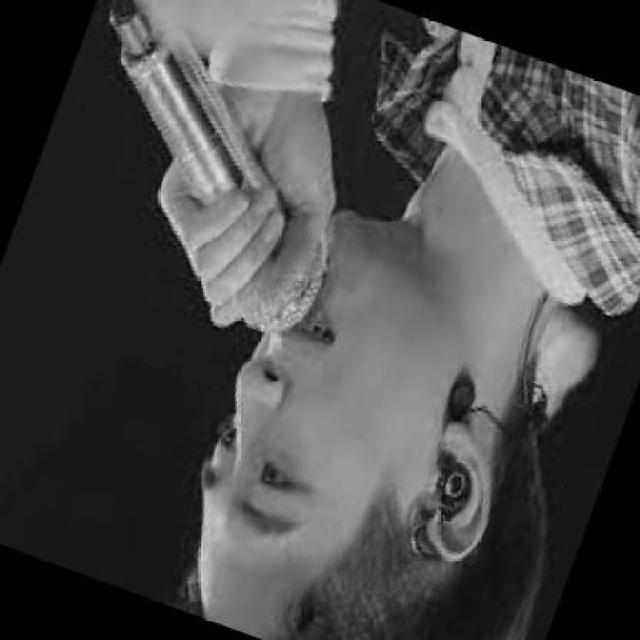earphone: (414, 430, 494, 548)
